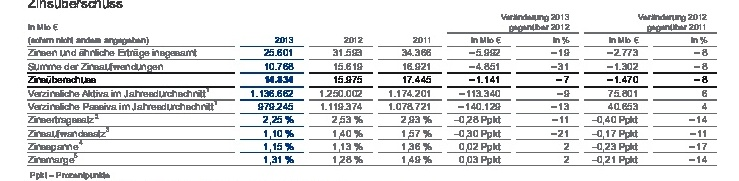table: (0, 0, 739, 181)
